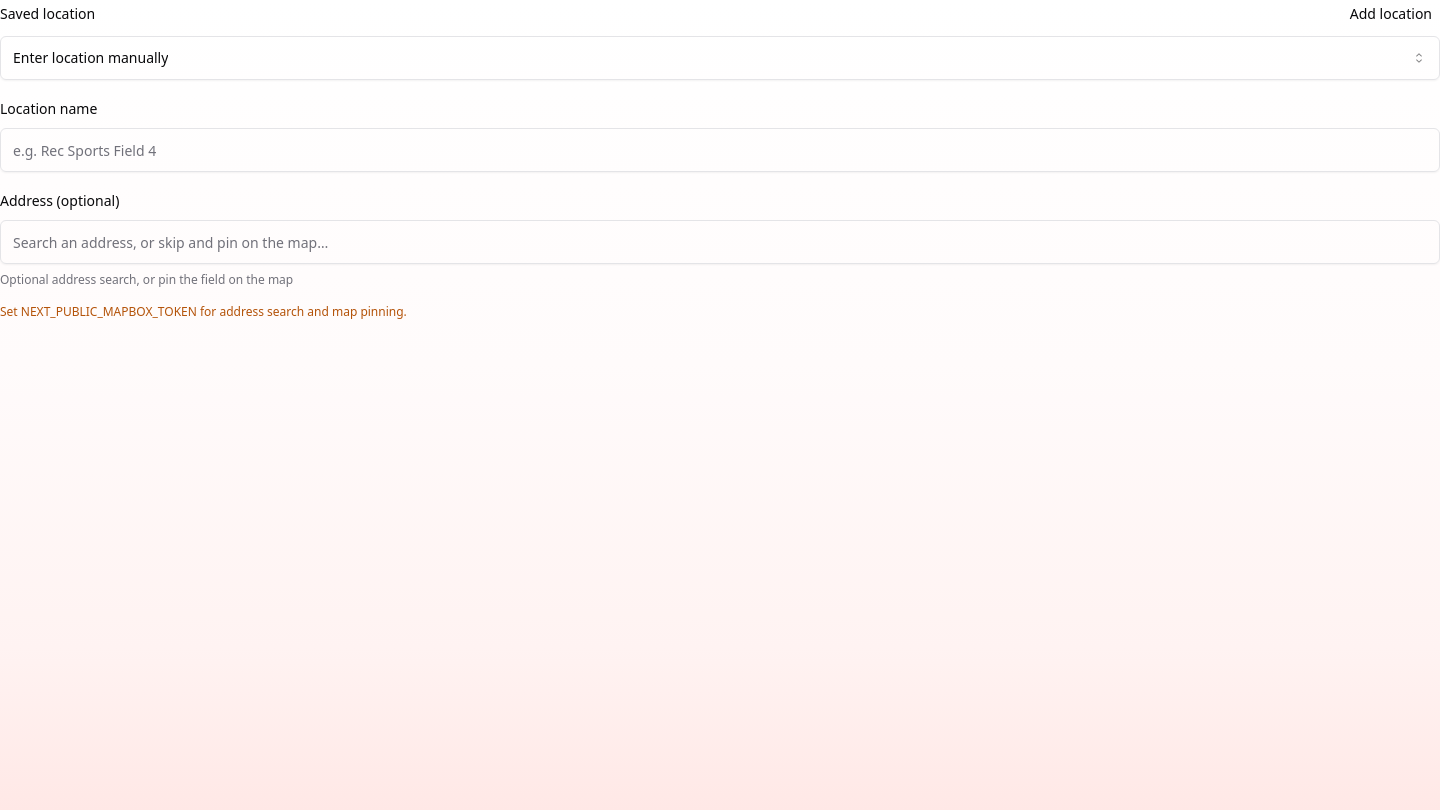
Scenario: LocationPicker › applies a newly created saved location to the match fields
Click the button "Add location" at {"x": 1391, "y": 14}, box [1342, 0, 1439, 28]
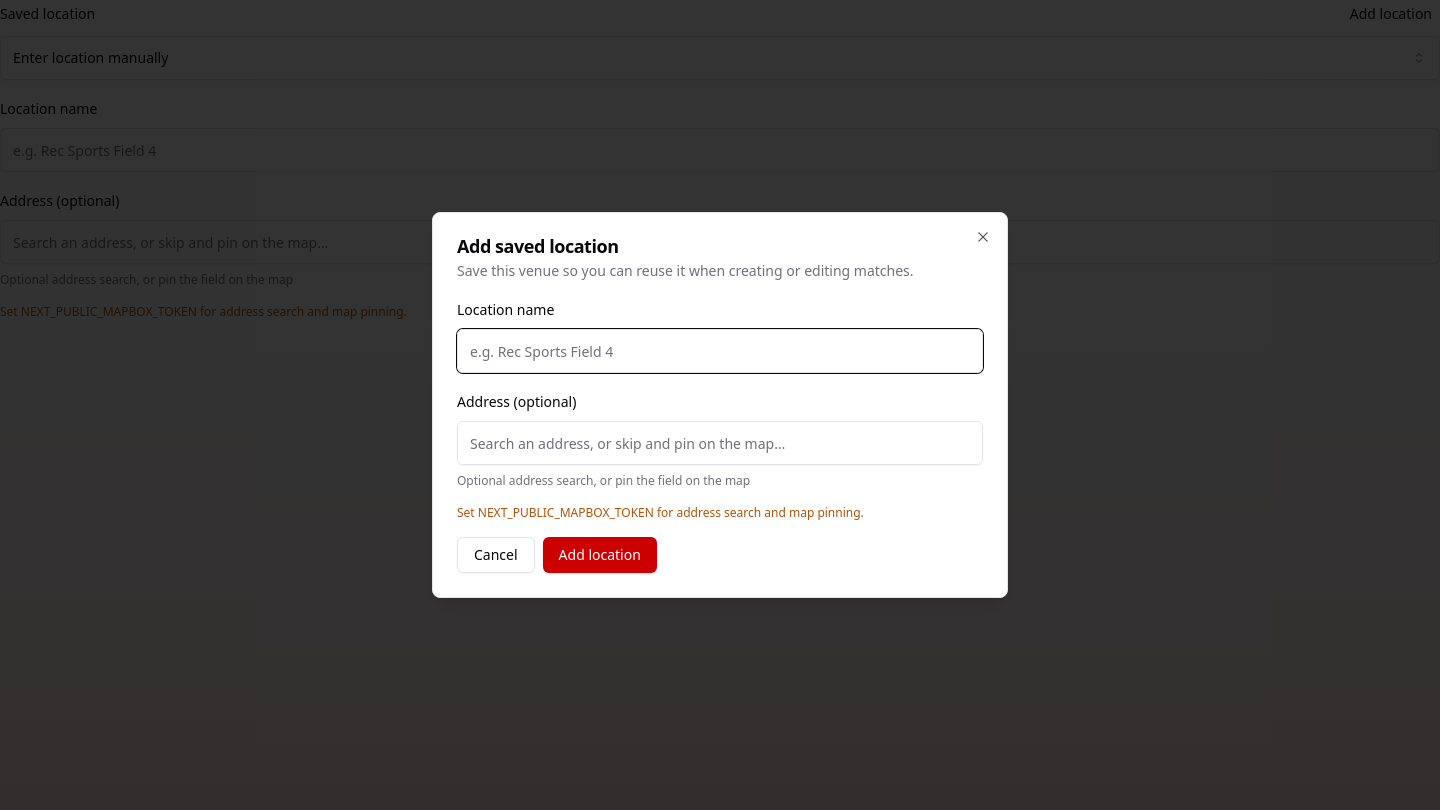
Type "South Field" into the field labelled "Location name" at {"x": 720, "y": 351}, box [457, 329, 983, 373]
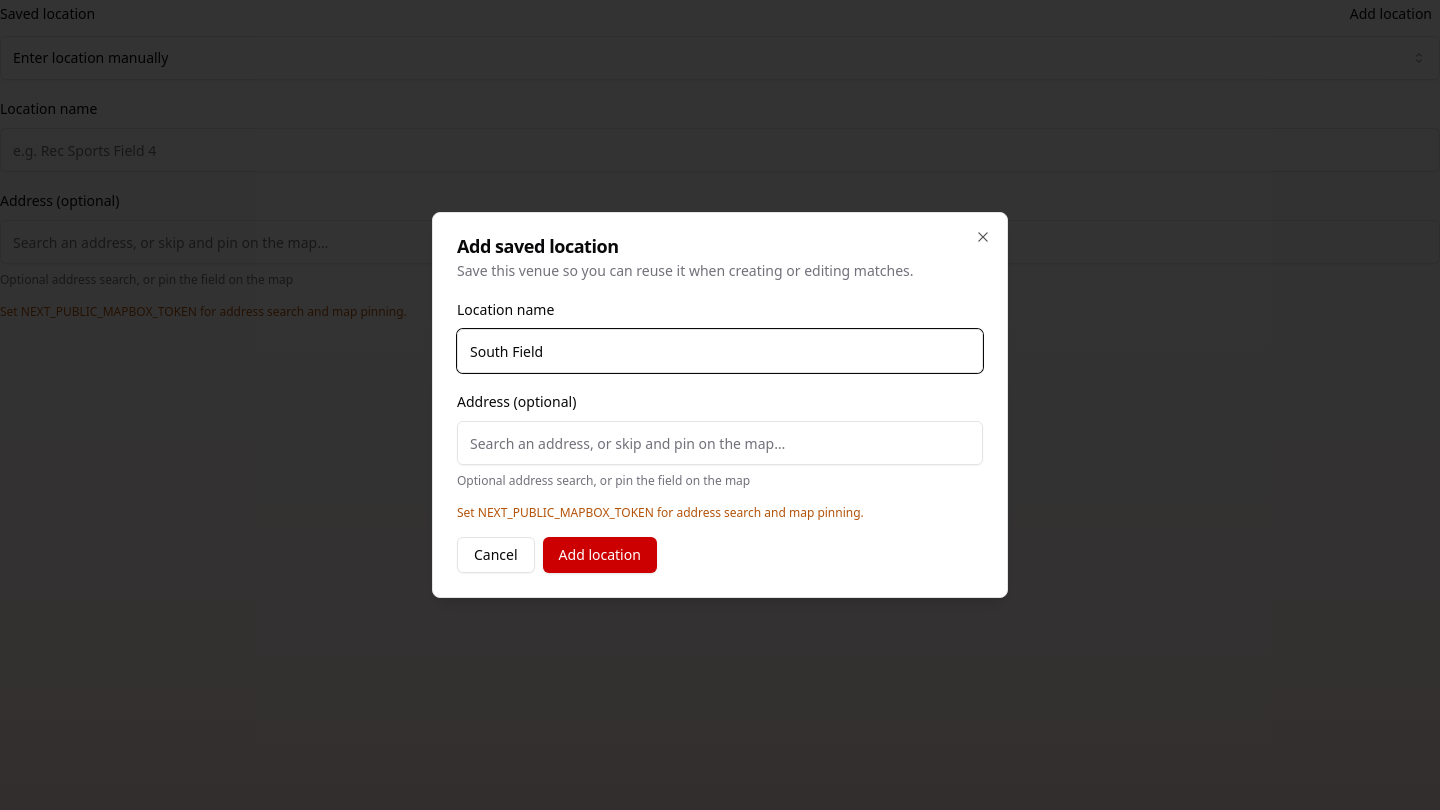
Type "456 Oak Ave" into the field labelled "Address (optional)" at {"x": 720, "y": 443}, box [457, 421, 983, 465]
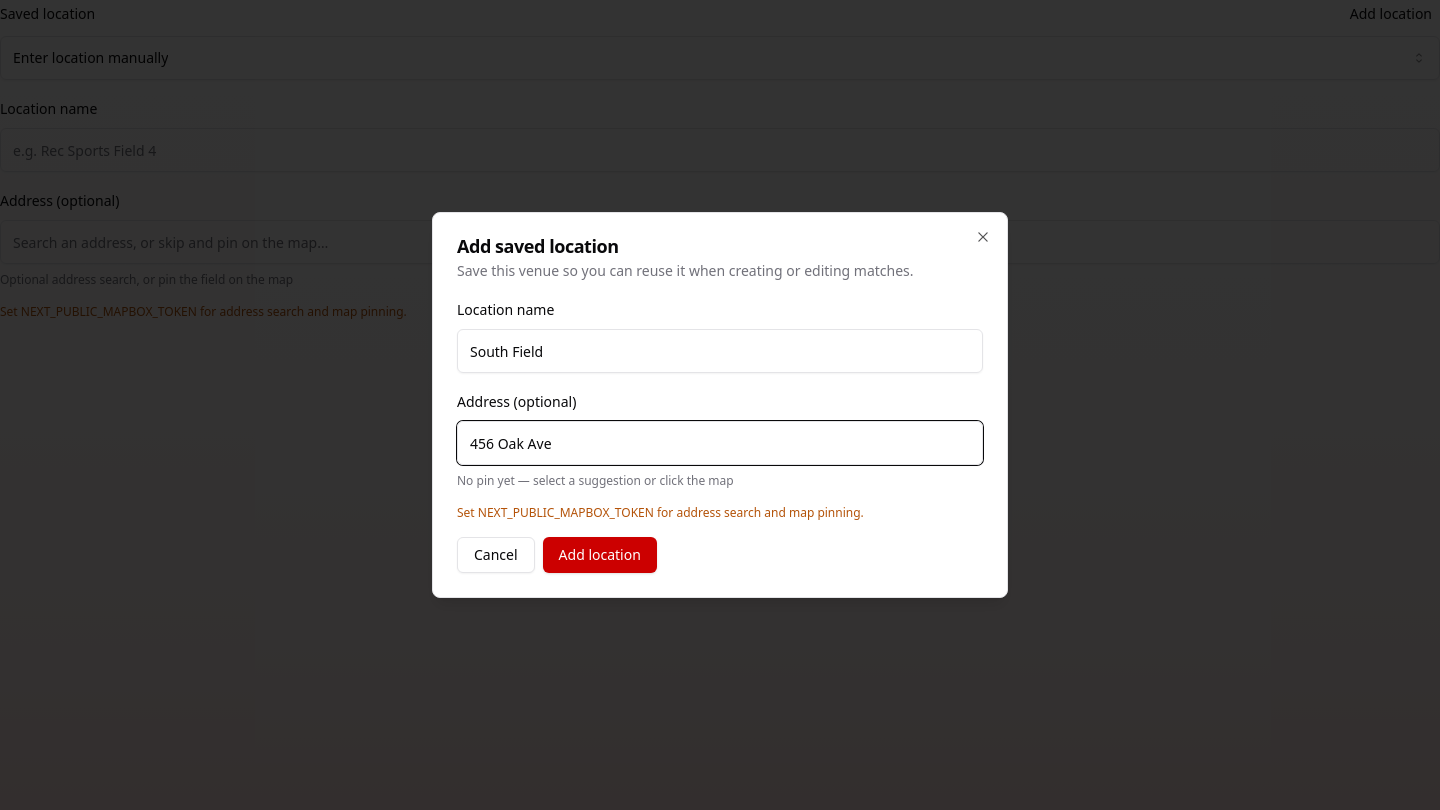
Click the button "Add location" at {"x": 600, "y": 555}, box [543, 537, 657, 573]
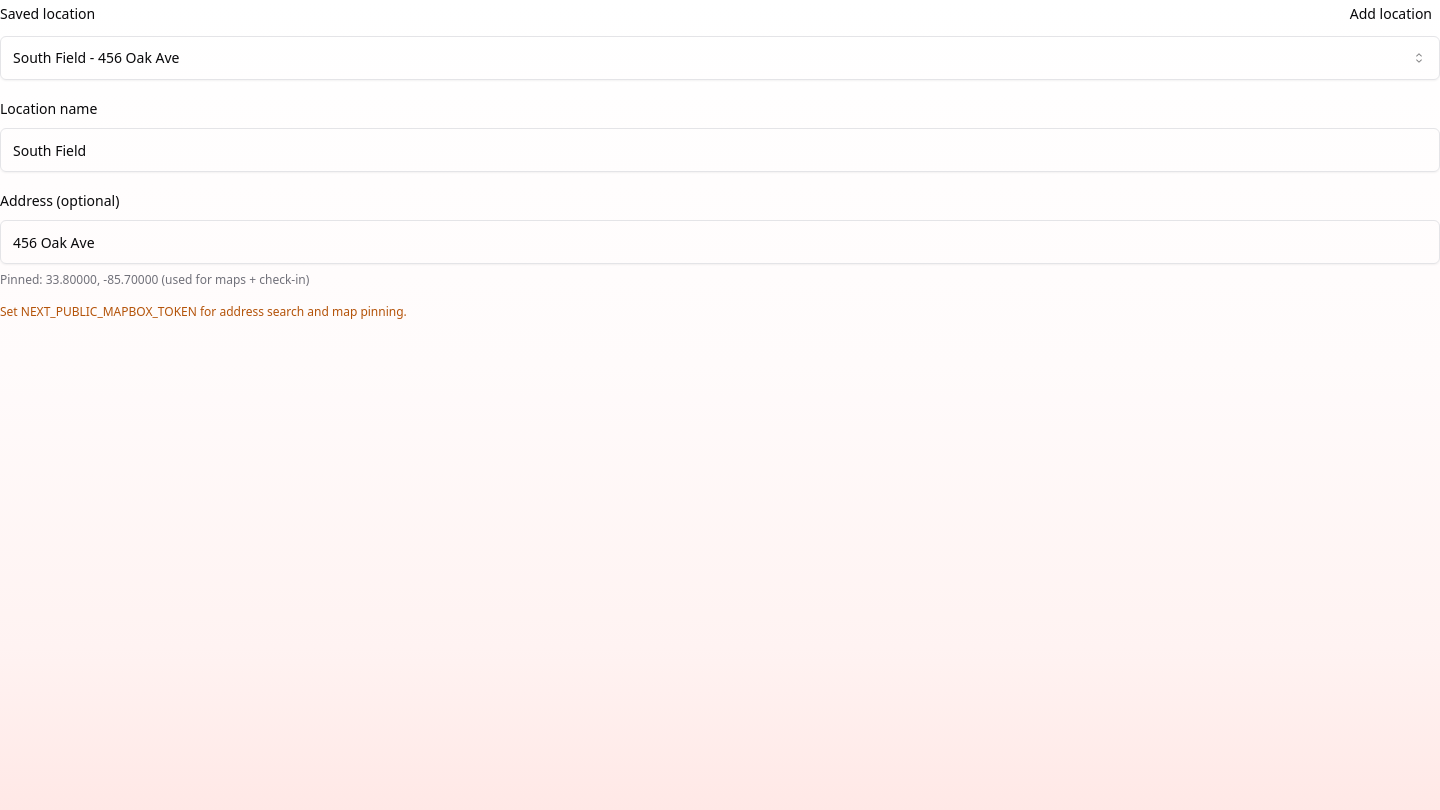
Expected: the dialog is gone
Expected: the field labelled "Location name" holds "South Field", [0, 128, 1439, 172]
Expected: the field labelled "Address (optional)" holds "456 Oak Ave", [0, 220, 1439, 264]
